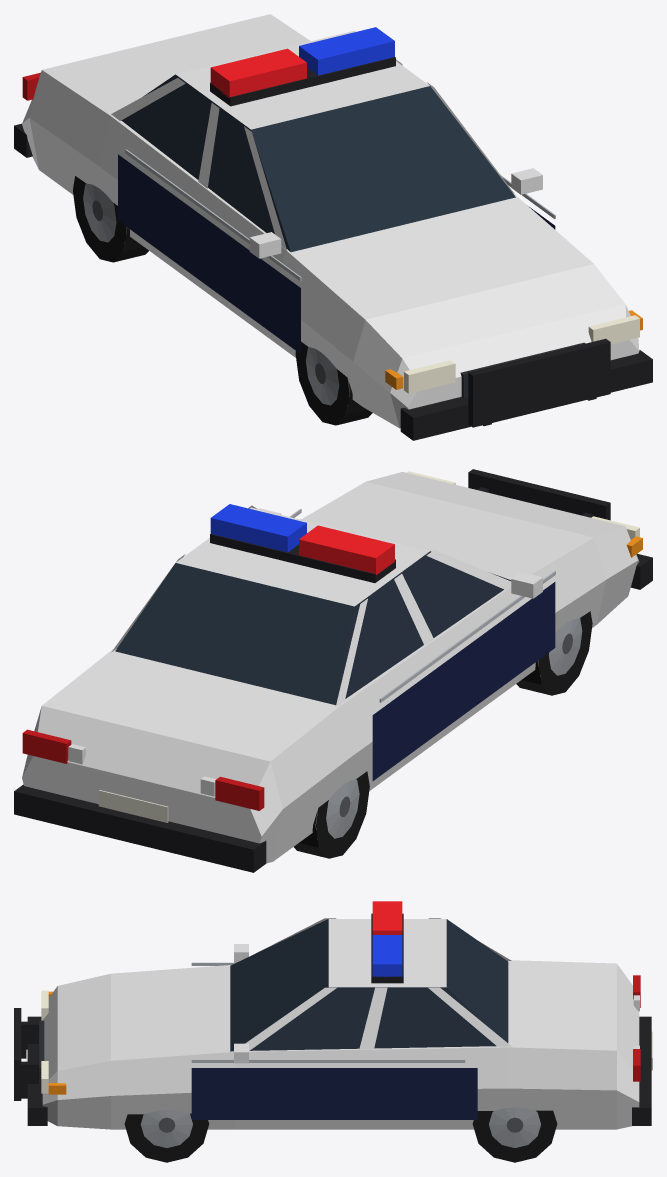
The model's file is police.glb.
3 views of the same model, one above another, from view 1: azimuth 30°, elevation 25°; view 2: azimuth 150°, elevation 25°; view 3: azimuth 270°, elevation 25° (orthographic). The views are drawn at different scales.
Parts seen in each view (by area): view 1: Body, Wheel_FR, Wheel_RR; view 2: Body, Wheel_RR, Wheel_FR; view 3: Body, Wheel_RL, Wheel_FL.
Part boxes in pixels (x1=…): Body: x1=14, y1=14, x2=652, y2=440; Wheel_FR: x1=295, y1=341, x2=372, y2=425; Wheel_RR: x1=73, y1=176, x2=148, y2=262; Body: x1=14, y1=469, x2=652, y2=872; Wheel_RR: x1=294, y1=771, x2=369, y2=858; Wheel_FR: x1=516, y1=611, x2=592, y2=695; Body: x1=14, y1=901, x2=652, y2=1129; Wheel_RL: x1=472, y1=1107, x2=557, y2=1162; Wheel_FL: x1=124, y1=1110, x2=209, y2=1162.
Bounding box in the file's own units: 2.06 × 1.63 × 5.14.
4 materials, 3 textured.
